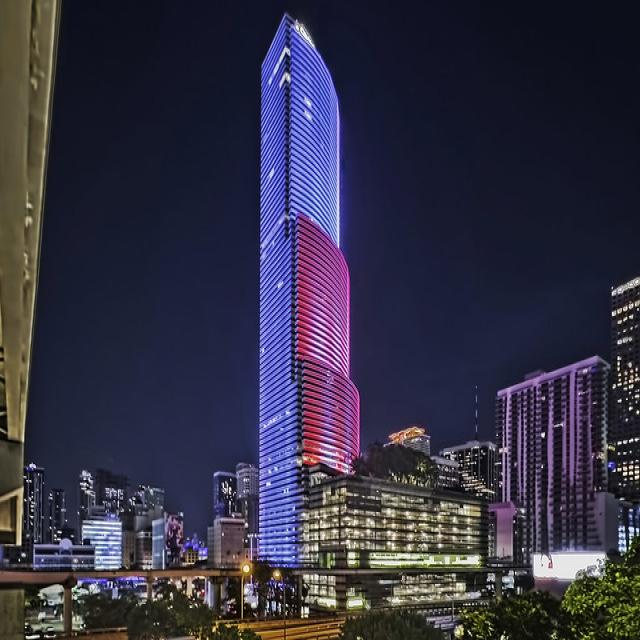building: (250, 9, 364, 570)
